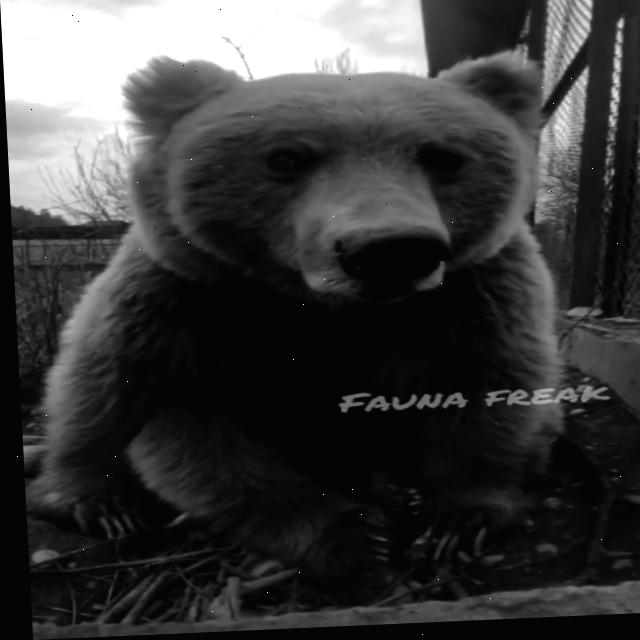Bear: (4, 36, 579, 603)
